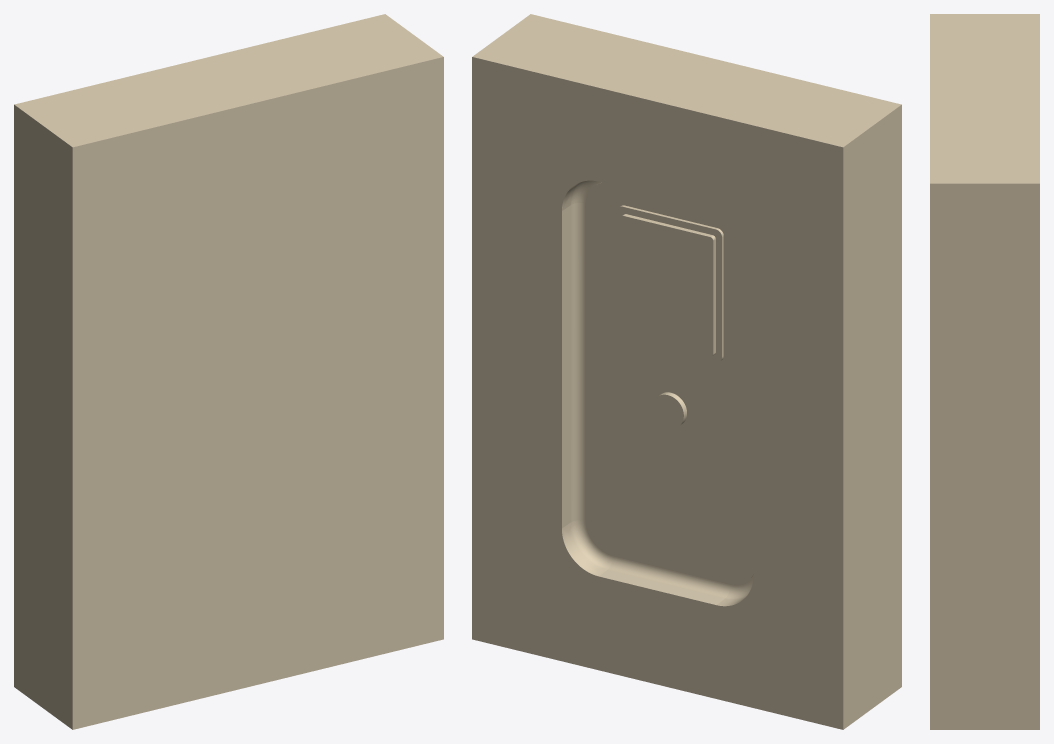
File: .HemoSure_Front_Housing_CAVITY.step.glb
3 views of the same model, side by side, from view 1: azimuth 30°, elevation 25°; view 2: azimuth 150°, elevation 25°; view 3: azimuth 270°, elevation 25° (orthographic). The views are drawn at different scales.
Visible parts, largest first — view 1: o1; view 2: o1; view 3: o1.
Boxes of the visible parts, box(x1,y1,x2,y2) form: o1: box(14, 14, 443, 729); o1: box(472, 14, 901, 729); o1: box(930, 14, 1039, 729).
Bounding box in the file's own units: 0.1206 × 0.1809 × 0.033.
